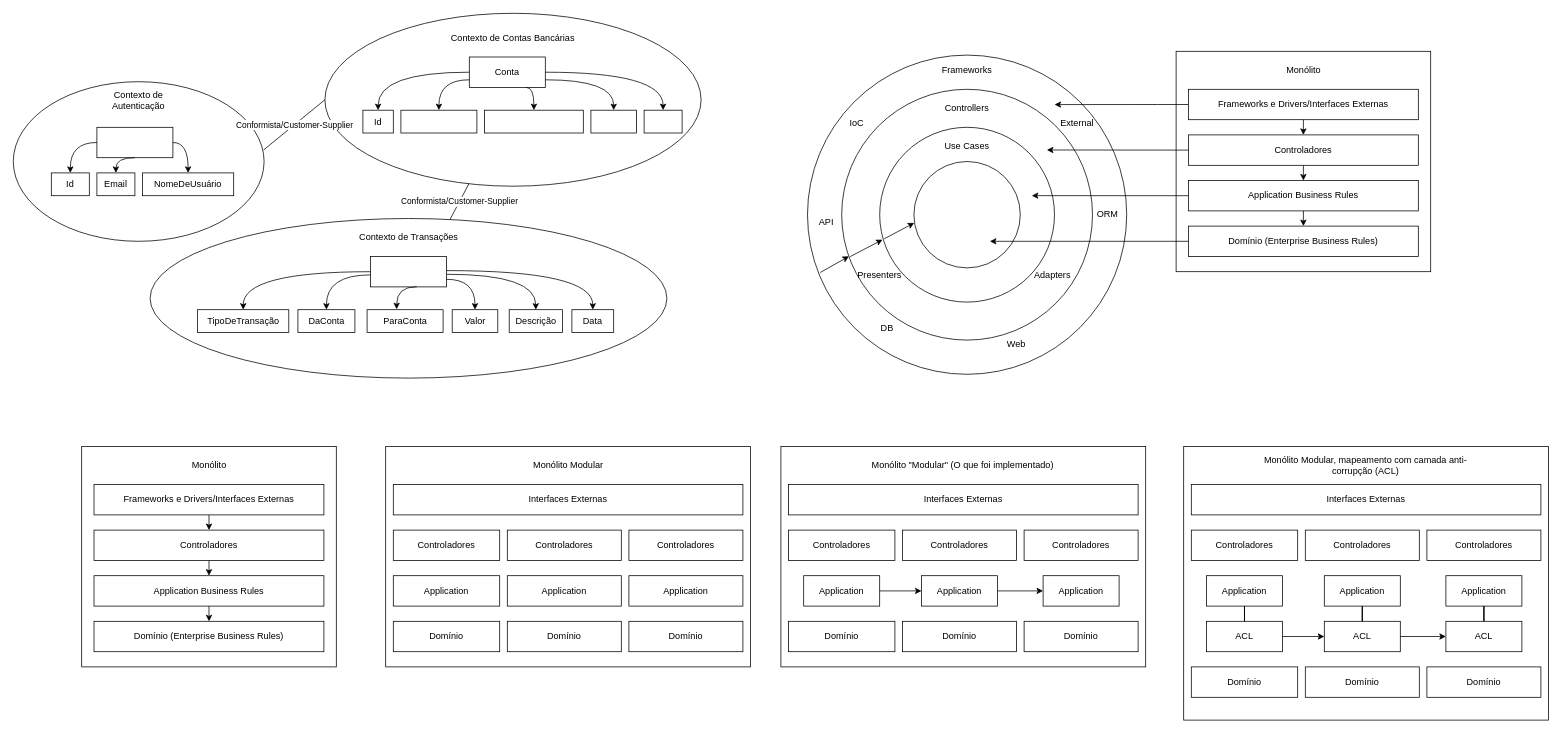
Some shapes in this 1562 by 733 pixel diagram are drawn without their labels. The box of each missing label's shape, as (x1, y1, x2, y2) in pixels:
Domain: (913, 161, 1020, 268)
Dono: (590, 109, 636, 133)
NúmeroDaConta: (484, 109, 583, 133)
Saldo: (643, 109, 682, 133)
TipoDeConta: (400, 109, 477, 133)
Transação: (370, 256, 446, 287)
Usuário: (96, 127, 173, 158)
